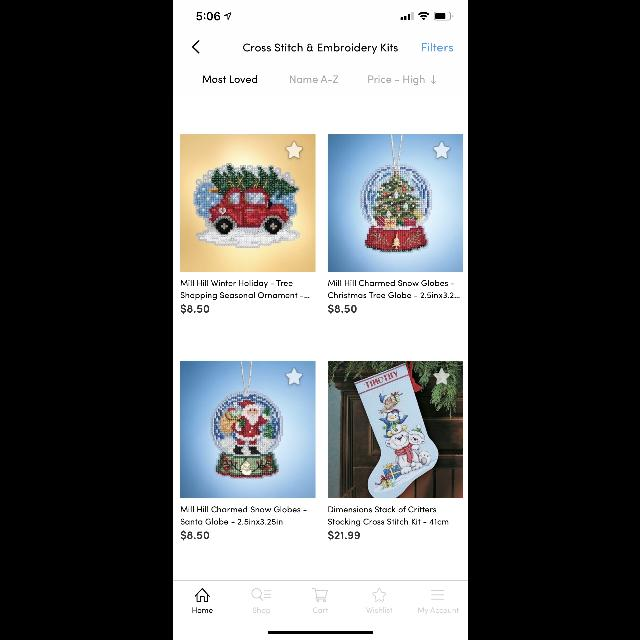icon: (284, 367, 302, 385), (432, 141, 450, 159), (284, 141, 302, 159), (432, 368, 450, 384), (251, 588, 271, 600), (311, 588, 327, 602), (372, 588, 386, 602), (194, 588, 208, 602), (431, 590, 444, 600), (192, 40, 198, 54), (431, 76, 435, 84)
image: (328, 134, 462, 272), (180, 134, 314, 272), (328, 362, 462, 498), (180, 362, 314, 498)
text: (180, 280, 308, 300), (328, 506, 448, 526), (180, 506, 306, 524), (242, 44, 398, 54), (328, 292, 458, 298), (328, 280, 454, 286), (368, 75, 424, 85), (202, 75, 256, 83), (328, 530, 358, 540), (422, 42, 452, 52), (290, 76, 338, 82), (180, 530, 208, 540), (328, 304, 356, 314), (180, 304, 208, 314), (418, 608, 458, 614), (366, 607, 392, 613), (252, 608, 270, 614), (192, 608, 212, 612), (312, 608, 328, 612)
uppertaskbar: (196, 12, 452, 21)
